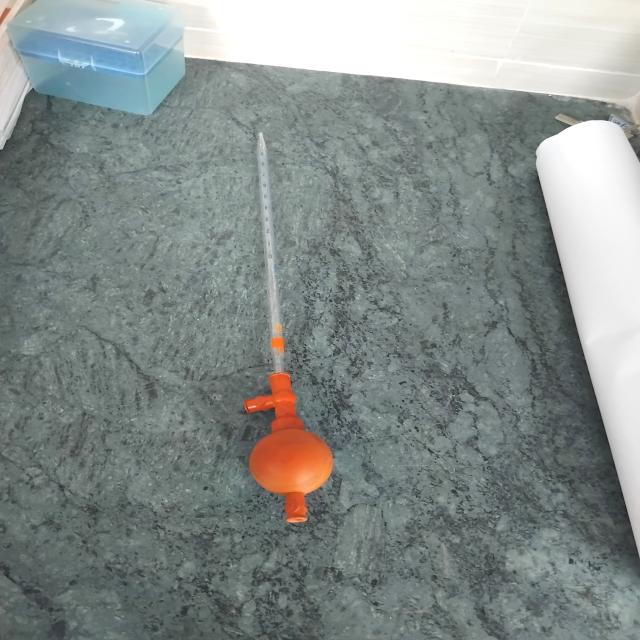Volumetric_Pipet: (210, 118, 377, 566)
